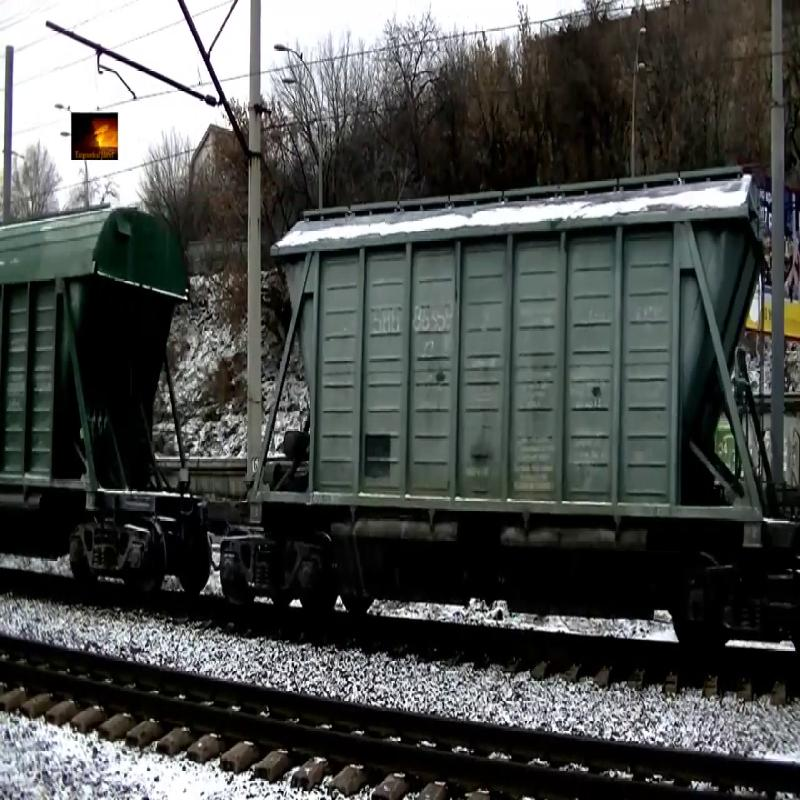train: (245, 160, 775, 572), (1, 200, 193, 542)
